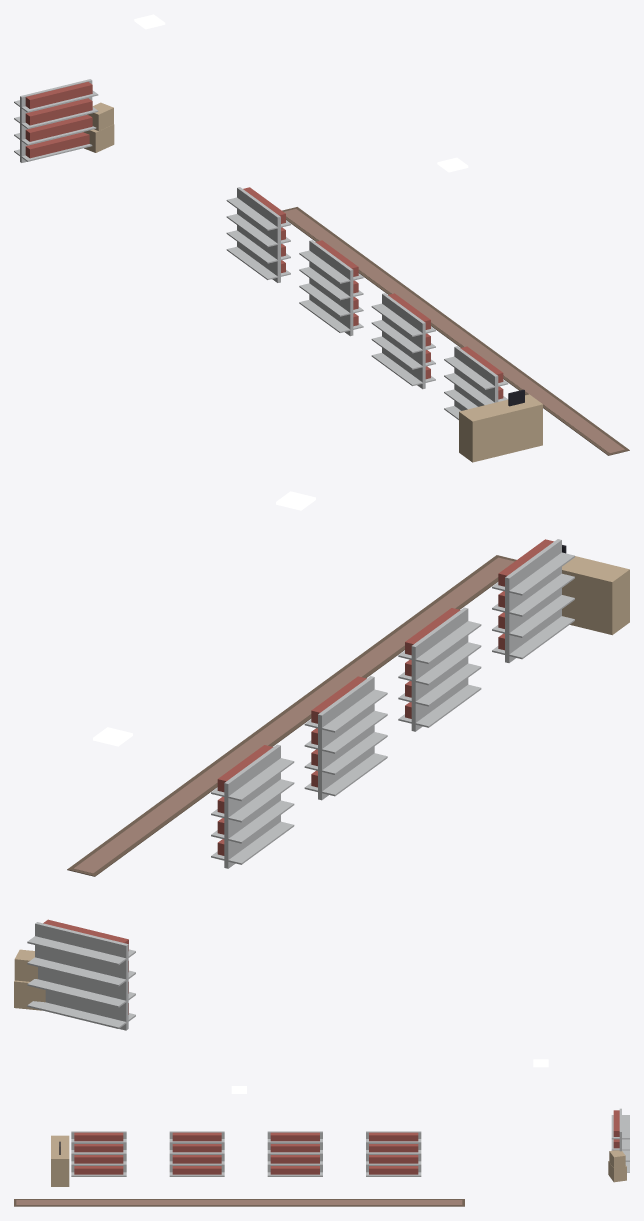
The model's file is fine-s0.glb.
3 views of the same model, one above another, from view 1: azimuth 30°, elevation 25°; view 2: azimuth 150°, elevation 25°; view 3: azimuth 270°, elevation 25° (orthographic). The views are drawn at different scales.
Visible parts, largest first — view 1: soft-s0, shelving.000, shop-counter.000, shelf.001, shelf.002, shelf.000, shelf.003, cardboard-box.000; view 2: soft-s0, shelving.000, shelf.000, shelf.001, shelf.002, shelf.003, shop-counter.000, cardboard-box.000; view 3: soft-s0, shelf.000, shelf.001, shelf.002, shelf.003, shop-counter.000, shelving.000, cardboard-box.000.
Boxes of the visible parts, left/top/right/bottom form: soft-s0: left=282, top=207, right=629, bottom=455; shelving.000: left=14, top=79, right=98, bottom=162; shop-counter.000: left=459, top=389, right=542, bottom=462; shelf.001: left=299, top=240, right=363, bottom=336; shelf.002: left=371, top=293, right=435, bottom=389; shelf.000: left=226, top=187, right=290, bottom=282; shelf.003: left=444, top=346, right=508, bottom=419; cardboard-box.000: left=83, top=102, right=114, bottom=152; soft-s0: left=67, top=555, right=516, bottom=876; shelving.000: left=27, top=919, right=135, bottom=1030; shelf.000: left=211, top=744, right=294, bottom=868; shelf.001: left=304, top=676, right=387, bottom=800; shelf.002: left=398, top=607, right=481, bottom=731; shelf.003: left=492, top=539, right=574, bottom=662; shop-counter.000: left=562, top=545, right=629, bottom=635; cardboard-box.000: left=14, top=949, right=45, bottom=1010; soft-s0: left=14, top=1199, right=464, bottom=1206; shelf.000: left=366, top=1131, right=421, bottom=1176; shelf.001: left=267, top=1131, right=322, bottom=1176; shelf.002: left=169, top=1131, right=224, bottom=1176; shelf.003: left=71, top=1131, right=126, bottom=1176; shop-counter.000: left=51, top=1135, right=69, bottom=1186; shelving.000: left=611, top=1108, right=629, bottom=1172; cardboard-box.000: left=608, top=1150, right=626, bottom=1182.
Bounding box in the file's own units: 4.12 × 4.08 × 20.07.
